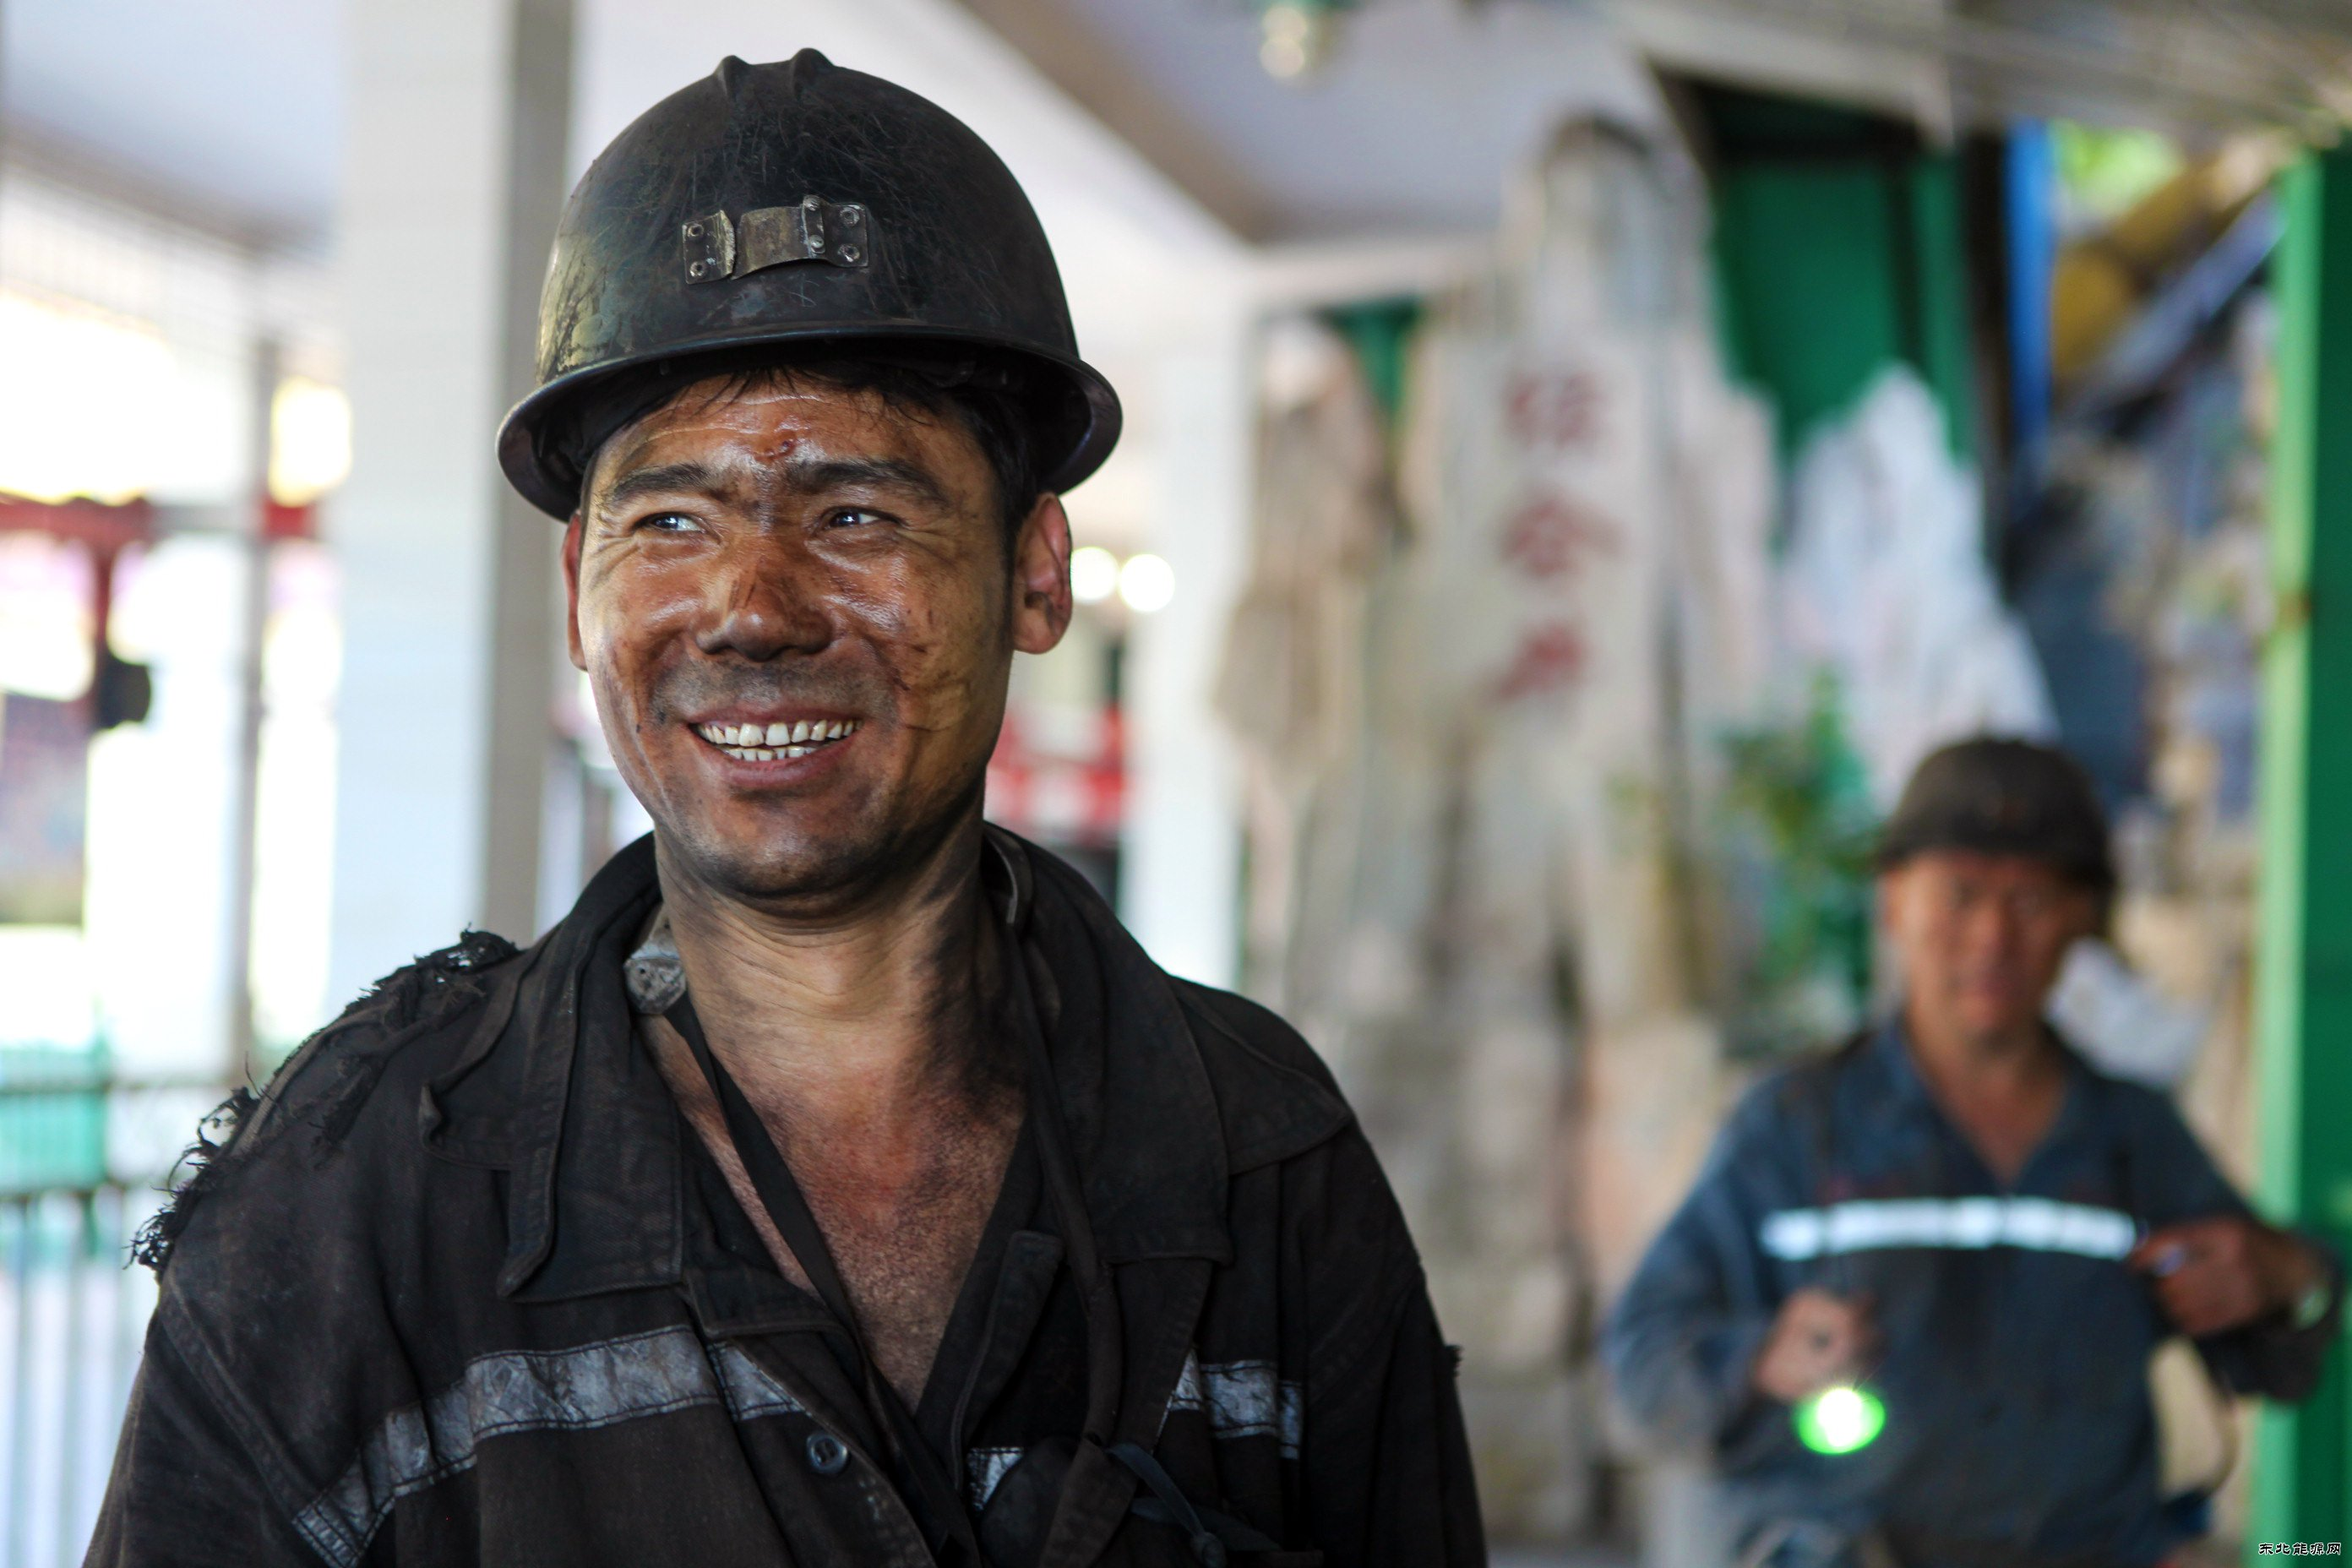helmet: (471, 68, 1183, 900)
